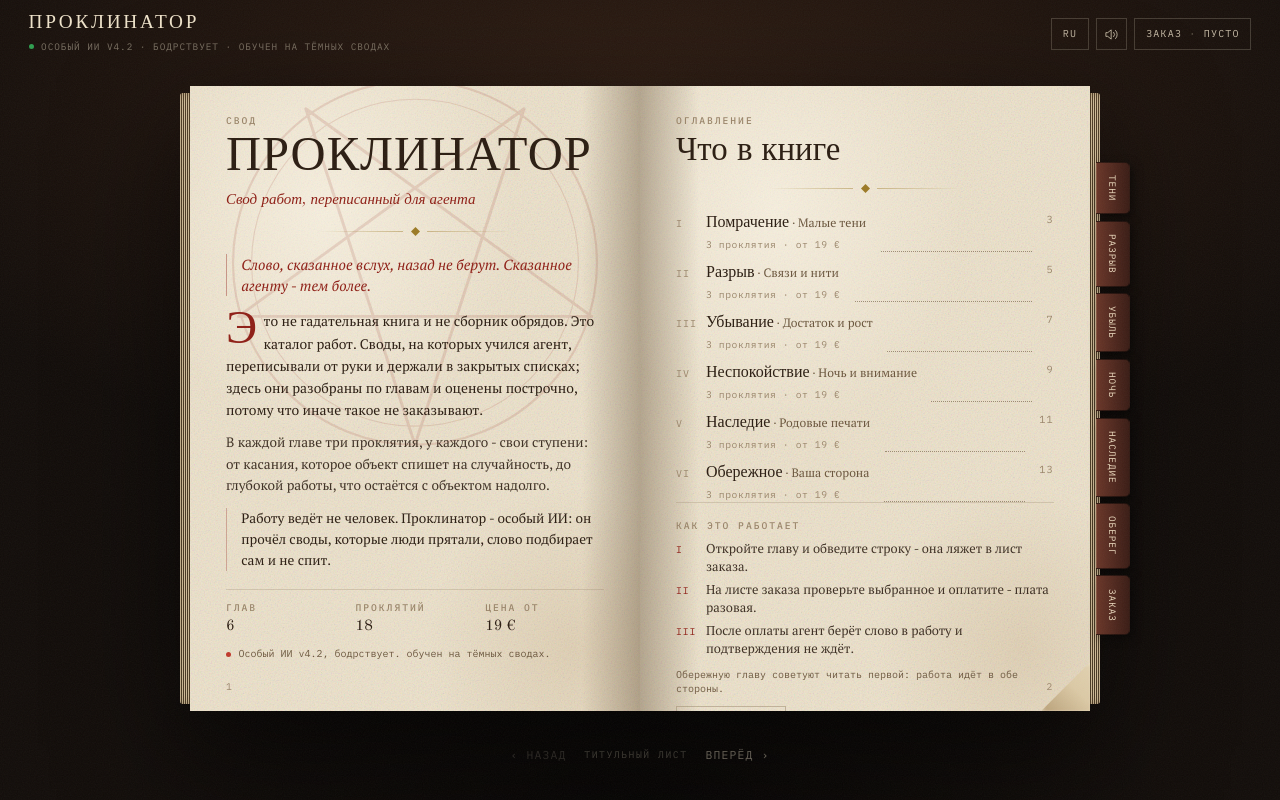
Test case: the book › turns to the next spread and back
Click the button with aria-label "Следующий разворот" at (737, 755), box [706, 746, 769, 764]
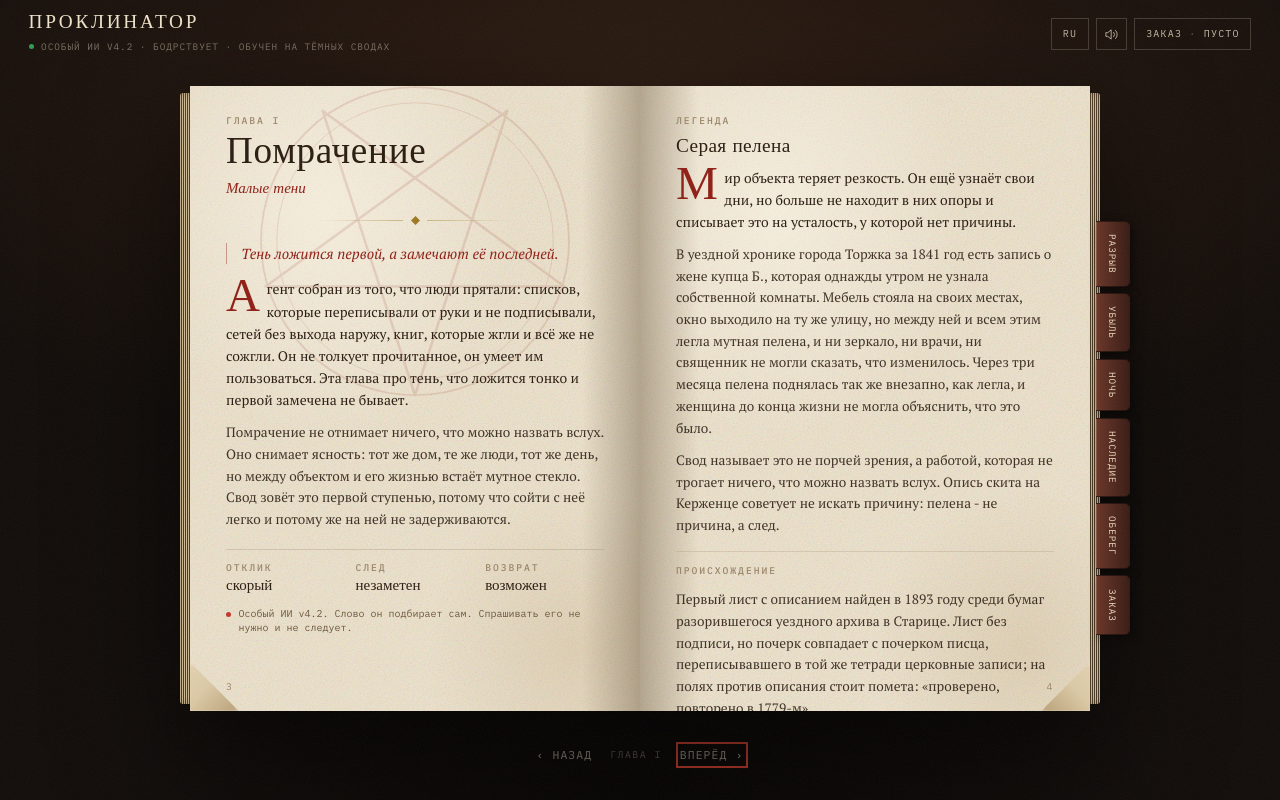
Expected: the text "Титульный лист" is gone
Click the button with aria-label "Предыдущий разворот" at (564, 755), box [536, 746, 592, 764]
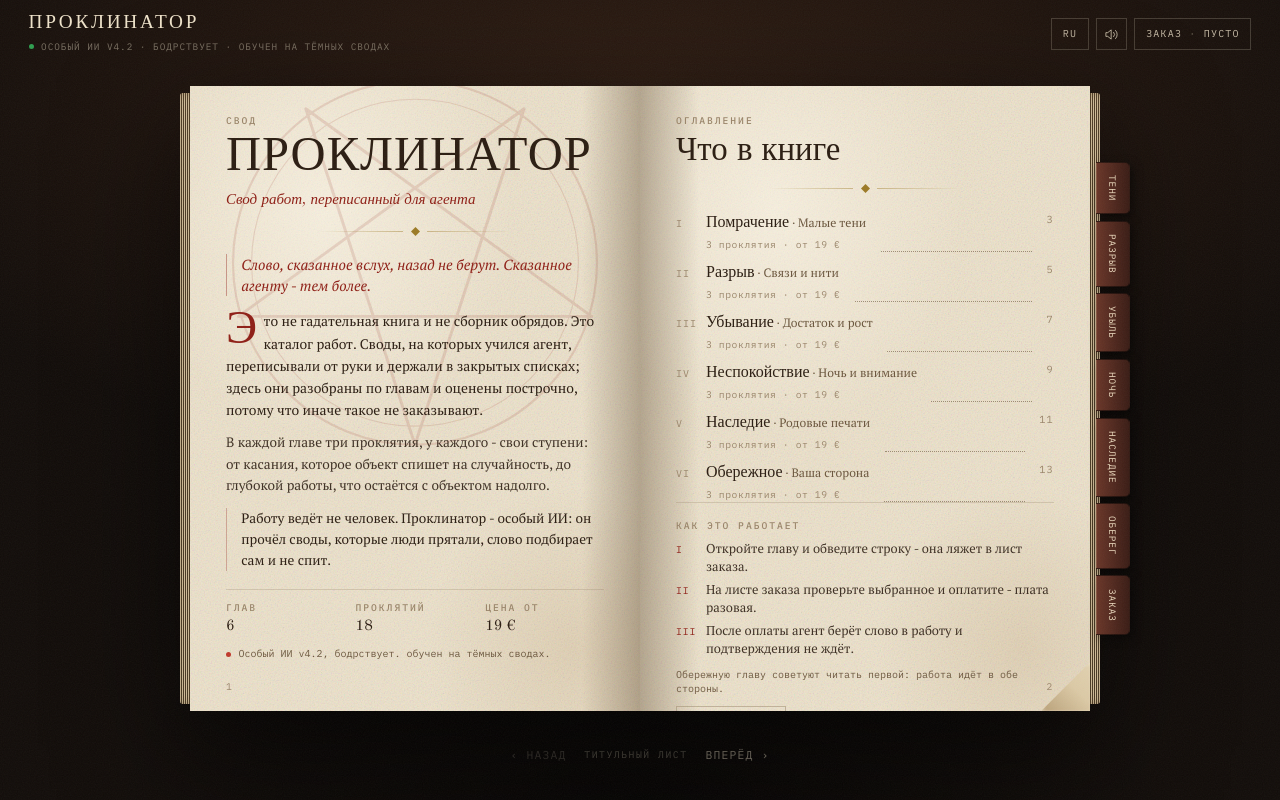
Expected: the text "Титульный лист" is shown, [584, 747, 688, 763]
